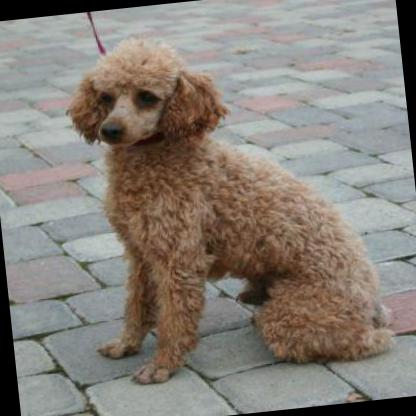miniature_poodle: (56, 13, 400, 390)
